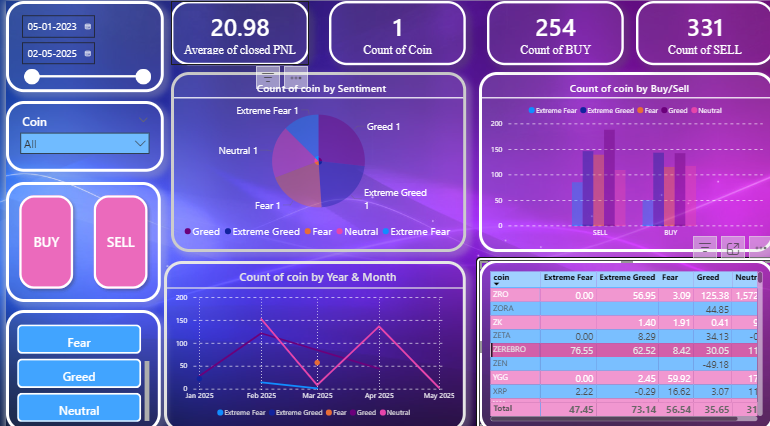

Layout of this report page (visuals, bound fields, positions):
{"tool":"powerbi","page":{"name":"Page 1","canvas":[1280,720],"ordinal":0},"visuals":[{"type":"pieChart","fields":{"Category":["clean_trader_sentiment (1).classification"],"Y":["Count(clean_trader_sentiment (1).coin)"]},"box":[275,118.3,491.7,300],"z":3},{"type":"lineChart","fields":{"Series":["clean_trader_sentiment (1).classification"],"Y":["CountNonNull(clean_trader_sentiment (1).coin)"],"Category":["clean_trader_sentiment (1).date.Variation.Date Hierarchy.Year","clean_trader_sentiment (1).date.Variation.Date Hierarchy.Month"]},"box":[263.3,433.3,503.3,285],"z":5},{"type":"clusteredColumnChart","fields":{"Category":["clean_trader_sentiment (1).side"],"Series":["clean_trader_sentiment (1).classification"],"Y":["Count(clean_trader_sentiment (1).coin)"]},"box":[788.3,118.3,491.7,300],"z":6},{"type":"pivotTable","fields":{"Rows":["clean_trader_sentiment (1).coin"],"Columns":["clean_trader_sentiment (1).classification"],"Values":["Avg(clean_trader_sentiment (1).closed pnl)"]},"box":[788.3,431.7,491.7,288.3],"z":7},{"type":"slicer","fields":{"Values":["clean_trader_sentiment (1).date"]},"box":[0,0,263.3,151.7],"z":8},{"type":"slicer","fields":{"Values":["clean_trader_sentiment (1).coin"]},"box":[0,166.7,263.3,118.3],"z":9},{"type":"advancedSlicerVisual","fields":{"Values":["clean_trader_sentiment (1).side"]},"box":[0,301.7,258.3,200],"z":10},{"type":"advancedSlicerVisual","fields":{"Values":["clean_trader_sentiment (1).classification"]},"box":[0,515,258.3,203.3],"z":11},{"type":"card","title":"yum","fields":{"Values":["Avg(clean_trader_sentiment (1).closed pnl)"]},"box":[275,0,230,106.7],"z":12},{"type":"card","title":"yum","fields":{"Values":["Count(clean_trader_sentiment (1).coin)"]},"box":[538.3,0,228.3,106.7],"z":13},{"type":"card","title":"yum","fields":{"Values":["CountNonNull(clean_trader_sentiment (1).side)"]},"box":[801.7,0,228.3,106.7],"z":14},{"type":"card","title":"yum","fields":{"Values":["CountNonNull(clean_trader_sentiment (1).side)"]},"box":[1050,0,230,106.7],"z":15}]}

Visuals, with their boxes in screenshot pixels (x1, y1, x2, y2), scaled from the page's 1280x720 canvas onto the 770x426 screenshot:
pieChart - clean_trader_sentiment (1).classification x Count(clean_trader_sentiment (1).coin): (left=165, top=70, right=461, bottom=247)
lineChart - clean_trader_sentiment (1).classification x CountNonNull(clean_trader_sentiment (1).coin): (left=158, top=256, right=461, bottom=425)
clusteredColumnChart - clean_trader_sentiment (1).side x clean_trader_sentiment (1).classification: (left=474, top=70, right=769, bottom=247)
pivotTable - clean_trader_sentiment (1).coin x clean_trader_sentiment (1).classification: (left=474, top=255, right=769, bottom=425)
slicer - clean_trader_sentiment (1).date: (left=0, top=0, right=158, bottom=90)
slicer - clean_trader_sentiment (1).coin: (left=0, top=99, right=158, bottom=169)
advancedSlicerVisual - clean_trader_sentiment (1).side: (left=0, top=179, right=155, bottom=297)
advancedSlicerVisual - clean_trader_sentiment (1).classification: (left=0, top=305, right=155, bottom=425)
"yum" card: (left=165, top=0, right=304, bottom=63)
"yum" card: (left=324, top=0, right=461, bottom=63)
"yum" card: (left=482, top=0, right=620, bottom=63)
"yum" card: (left=632, top=0, right=769, bottom=63)
